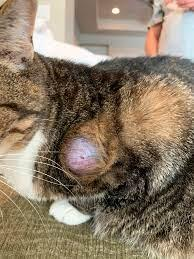lump_and_bump: (64, 138, 100, 173)
